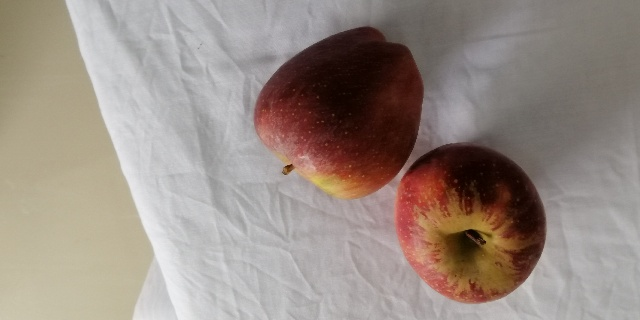apple_kashmir: (254, 26, 424, 198), (395, 147, 547, 303)
